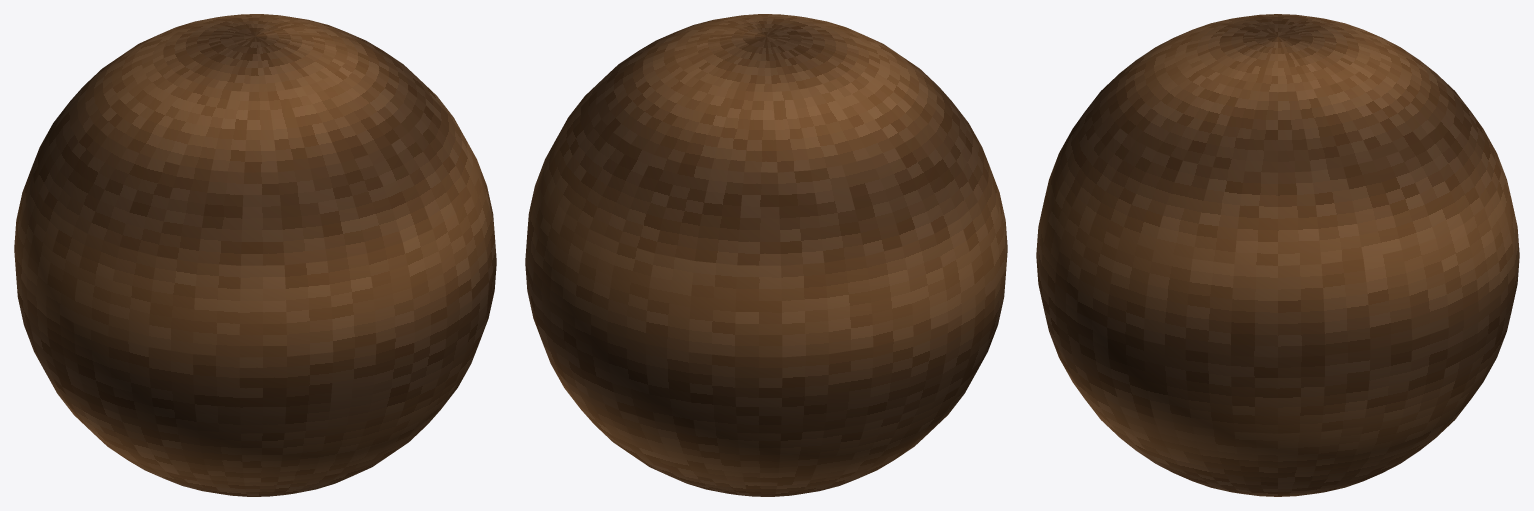
File: sphere_wood.obj
3 renders of one model, left to right at view 1: azimuth 30°, elevation 25°; view 2: azimuth 150°, elevation 25°; view 3: azimuth 270°, elevation 25°, orthographic.
Bounding box in the file's own units: 1 × 1 × 1.
Materials: 1 (1 with a texture image).
